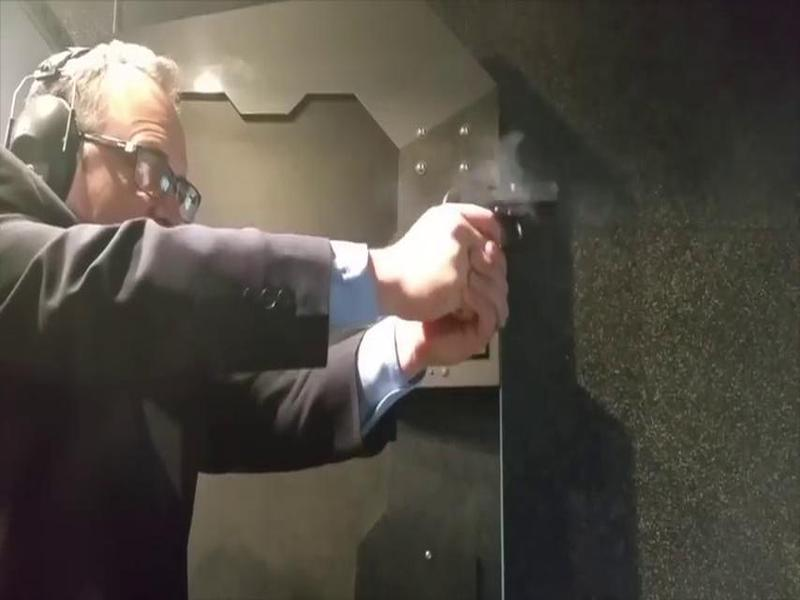Pistola: (434, 162, 577, 259)
